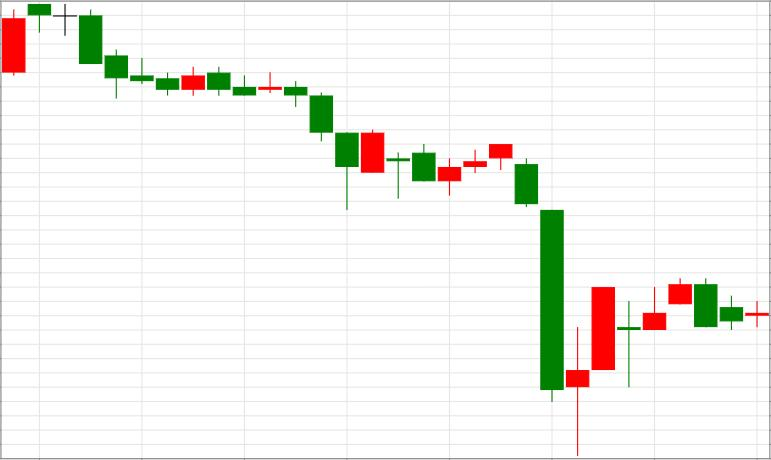hammer_rise: (27, 4, 359, 208)
